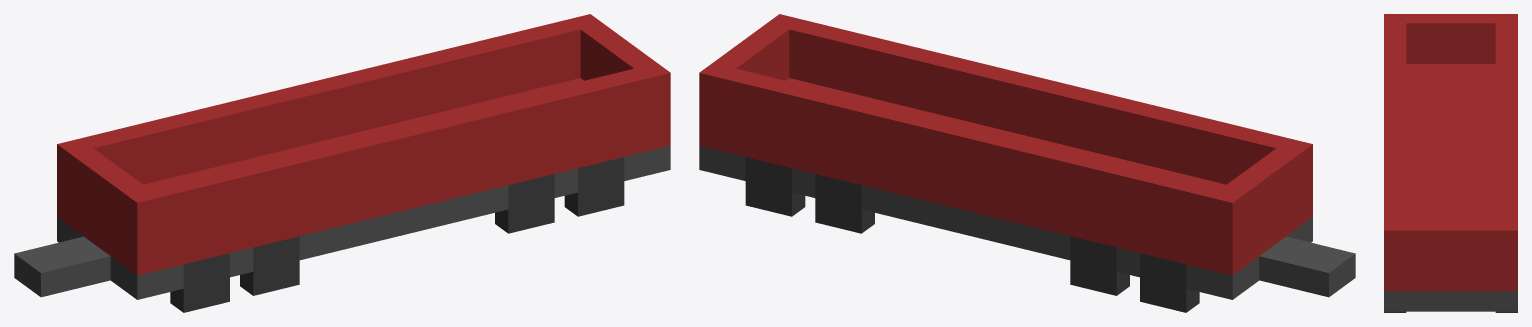
Rendered from train-trailer-v8-red.gltf.
3 views of the same model, side by side, from view 1: azimuth 30°, elevation 25°; view 2: azimuth 150°, elevation 25°; view 3: azimuth 270°, elevation 25° (orthographic). The views are drawn at different scales.
Visible parts, largest first — view 1: model, wheels; view 2: model, wheels; view 3: model.
Boxes of the visible parts, <box> form: model: <box>14,14,670,299</box>; wheels: <box>170,157,624,312</box>; model: <box>699,14,1355,299</box>; wheels: <box>745,157,1199,312</box>; model: <box>1384,14,1517,311</box>.
Bounding box in the file's own units: 2.6 × 0.5 × 0.6.
2 materials, 2 textured.
